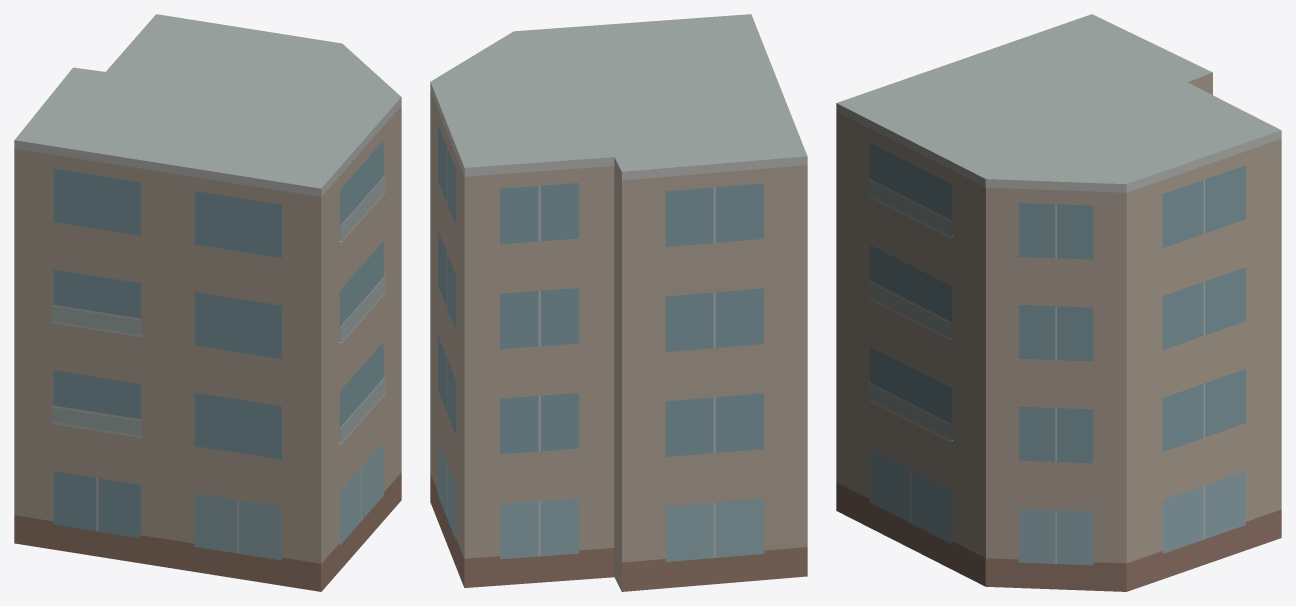
File: survey-upis-32913494.glb
The picture shows the model from 3 angles, left to right: view 1: azimuth 30°, elevation 25°; view 2: azimuth 150°, elevation 25°; view 3: azimuth 270°, elevation 25°; orthographic projection. The views are drawn at different scales.
Parts seen in each view (by area): view 1: survey-upis-32913494.tmp; view 2: survey-upis-32913494.tmp; view 3: survey-upis-32913494.tmp.
Part boxes in pixels (x1,y1,x2,y2): survey-upis-32913494.tmp: [14, 14, 401, 591]; survey-upis-32913494.tmp: [430, 14, 807, 591]; survey-upis-32913494.tmp: [836, 14, 1281, 591].
Bounding box in the file's own units: 10.49 × 11.7 × 11.59.
